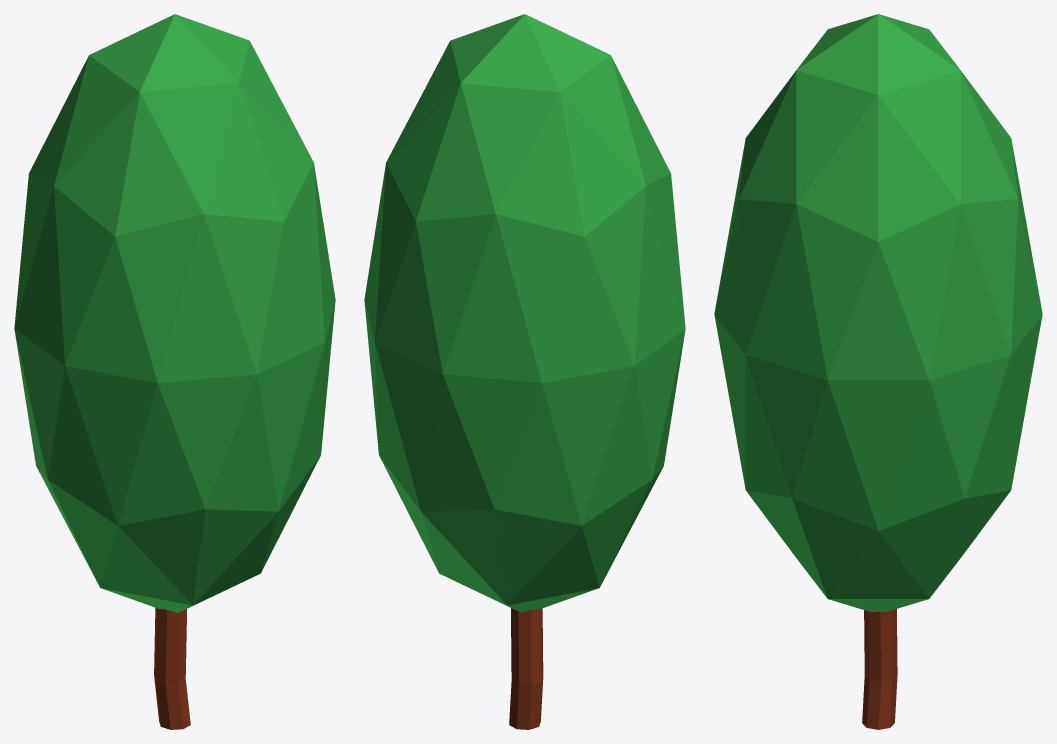
Rendered from tree.1.fbx.
3 renders of one model, left to right at view 1: azimuth 30°, elevation 25°; view 2: azimuth 150°, elevation 25°; view 3: azimuth 270°, elevation 25°, orthographic.
Parts seen in each view (by area): view 1: Tree.001; view 2: Tree.001; view 3: Tree.001.
Part boxes in pixels (box(x1,y1,x2,y2)): Tree.001: box(14, 14, 335, 729); Tree.001: box(364, 14, 685, 729); Tree.001: box(714, 14, 1042, 729).
Size of the model in its own units: 380 by 953 by 400.
